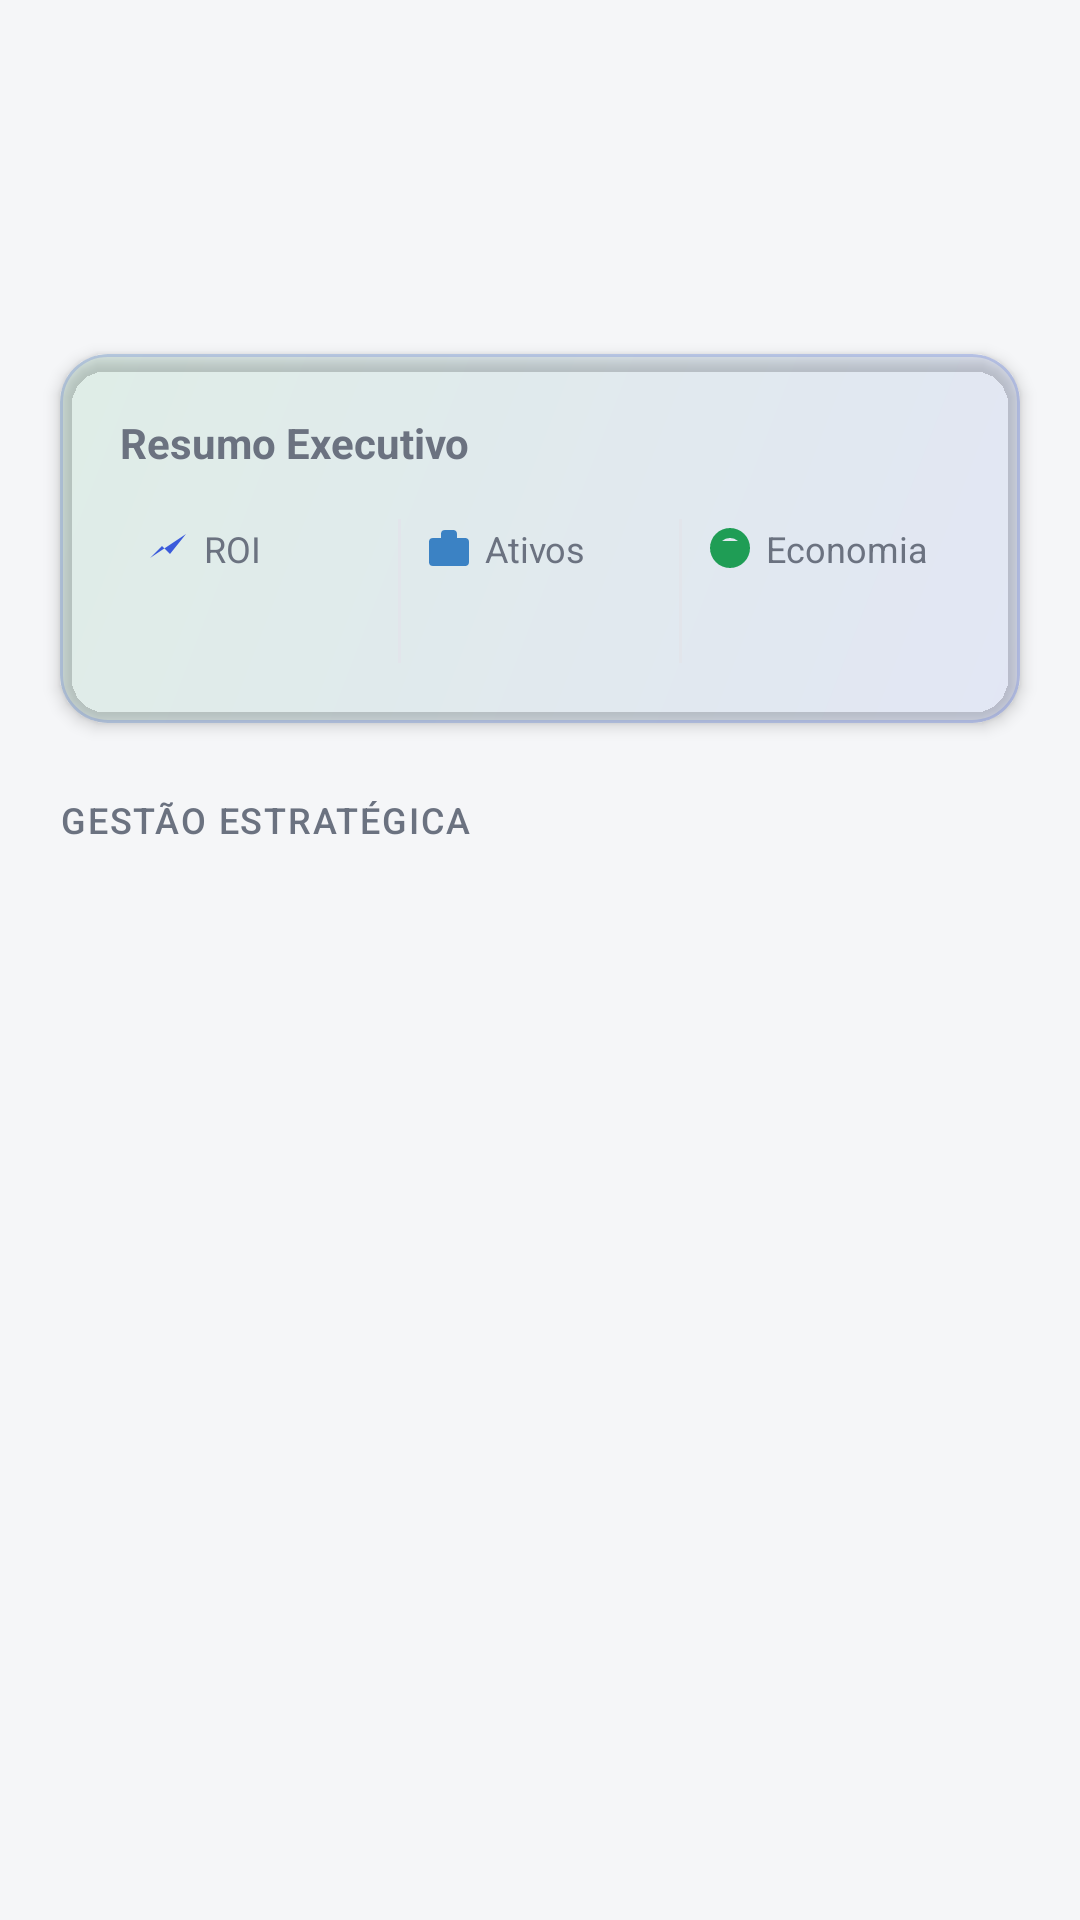

Where icons sit on this 1080w x 1920h app screen, as (x1, y1, x2, y2):
briefcase: (429, 530, 469, 566)
trending: (150, 534, 186, 558)
